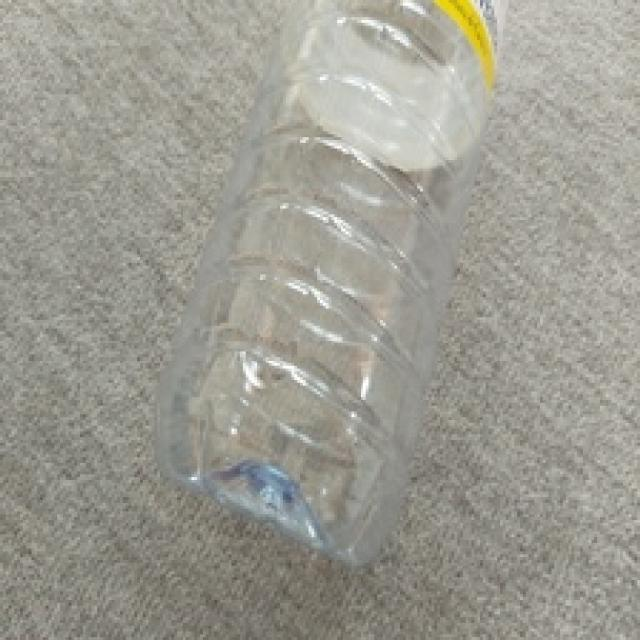Plastic: (152, 0, 509, 569)
